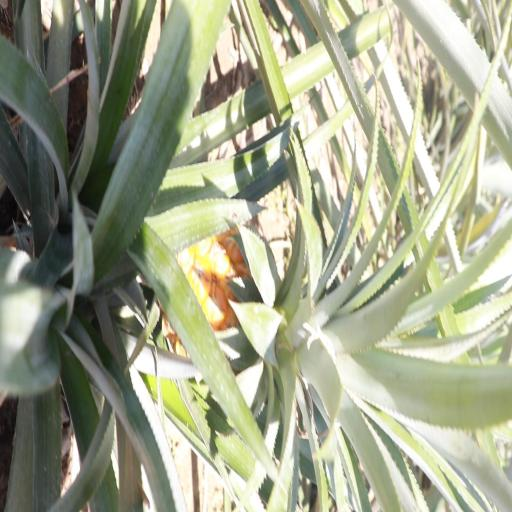Pineapple - v8 v1: (170, 213, 364, 383)
